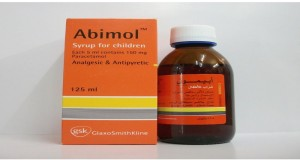Medicine: (60, 15, 161, 147), (159, 23, 240, 146)
